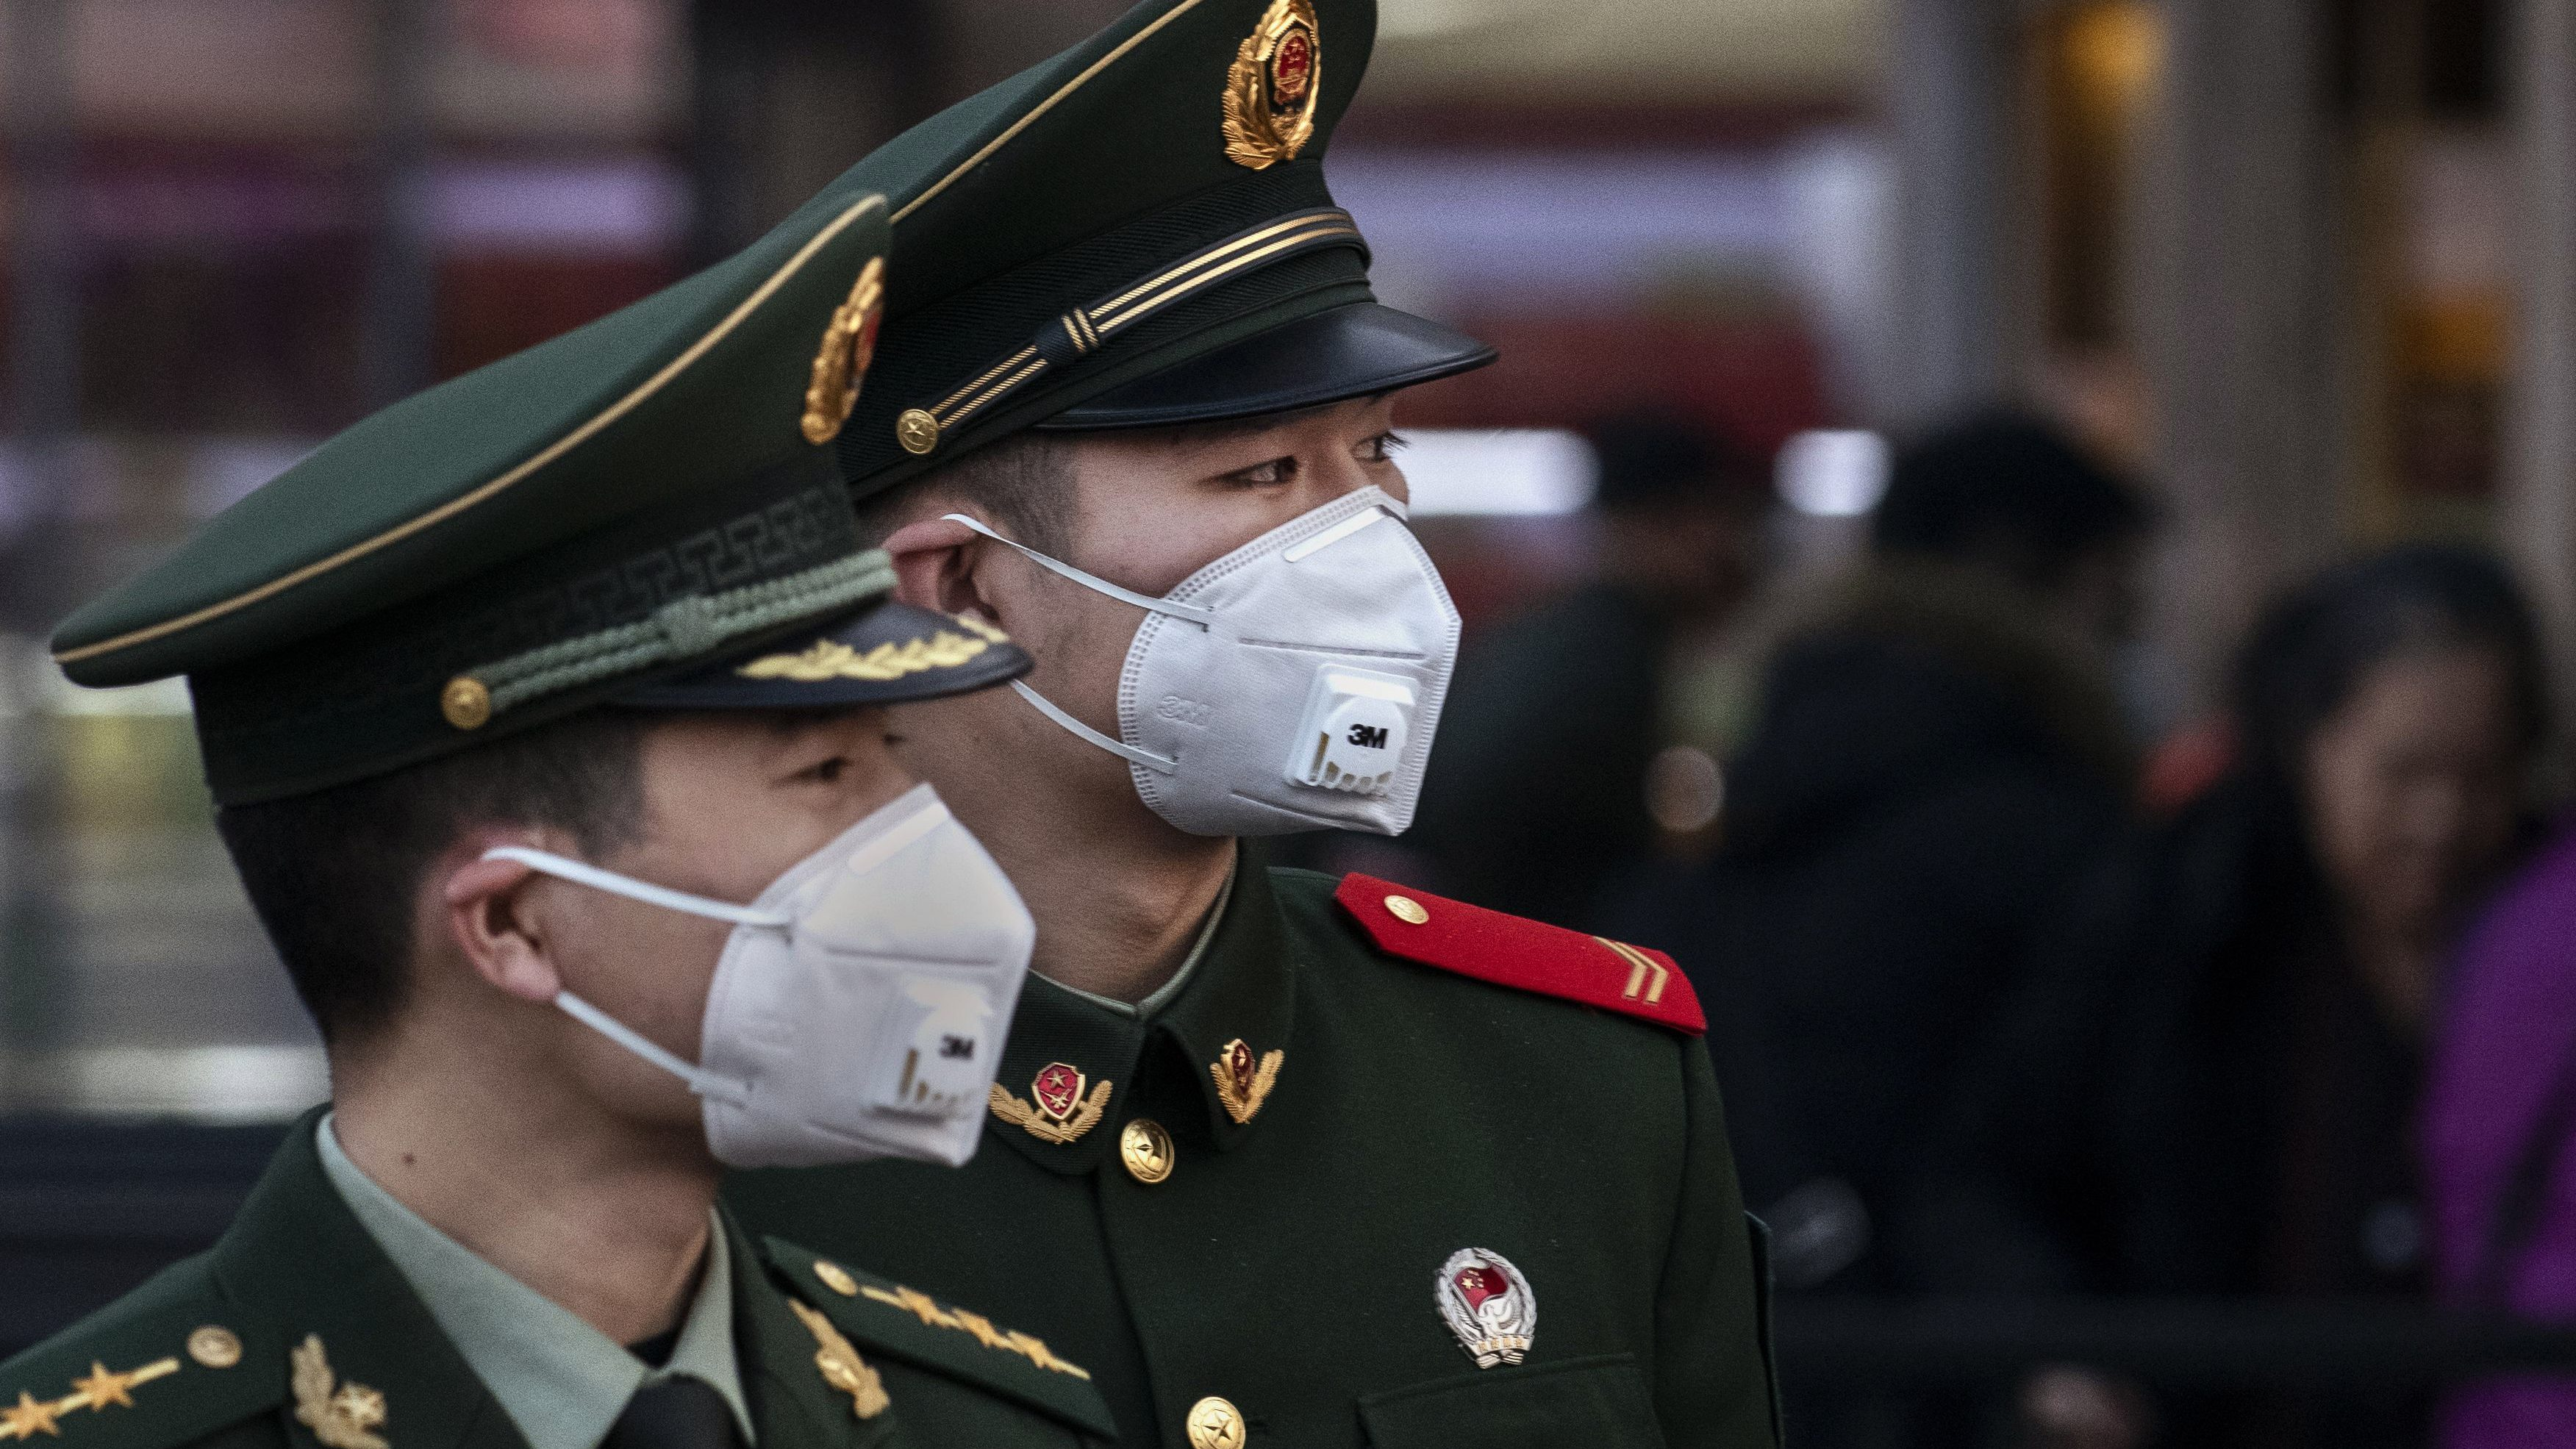n95: (1090, 488, 1517, 856), (673, 787, 1037, 1180)
